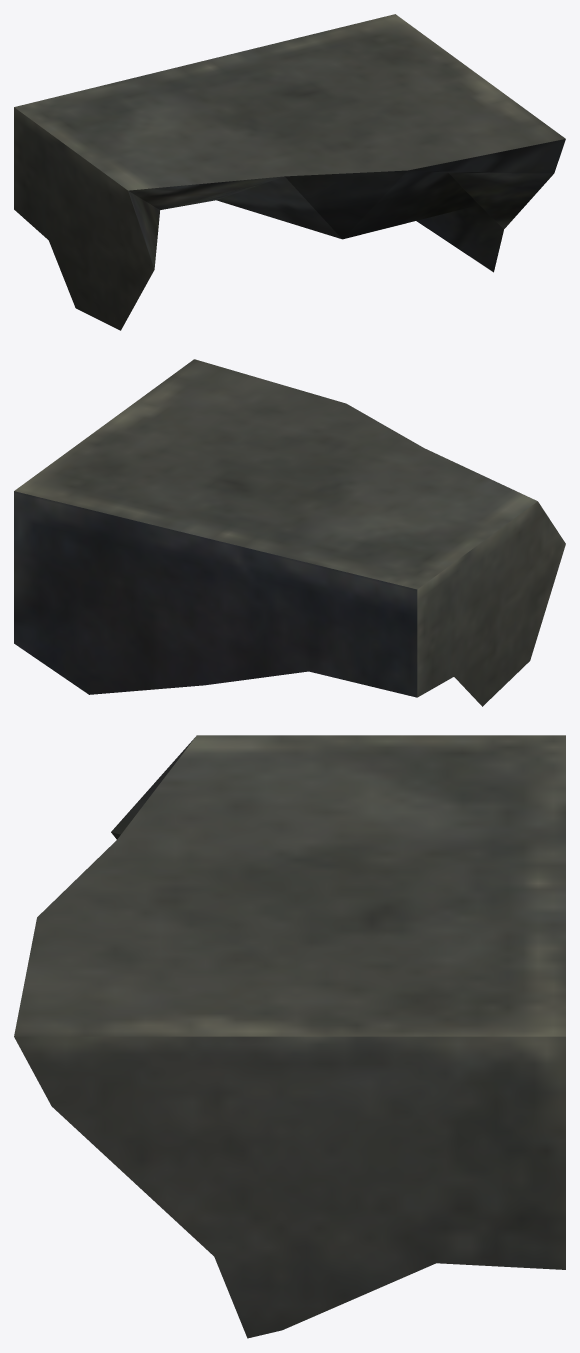
Rendered from C_taijie004.fbx.
3 views of the same model, one above another, from view 1: azimuth 30°, elevation 25°; view 2: azimuth 150°, elevation 25°; view 3: azimuth 270°, elevation 25° (orthographic). The views are drawn at different scales.
Parts seen in each view (by area): view 1: C_taijie004; view 2: C_taijie004; view 3: C_taijie004.
Part boxes in pixels (x1,y1,x2,y2): C_taijie004: (14,14,565,330); C_taijie004: (14,359,565,706); C_taijie004: (14,735,565,1338).
Bounding box in the file's own units: 36.67 × 17.13 × 28.4.
